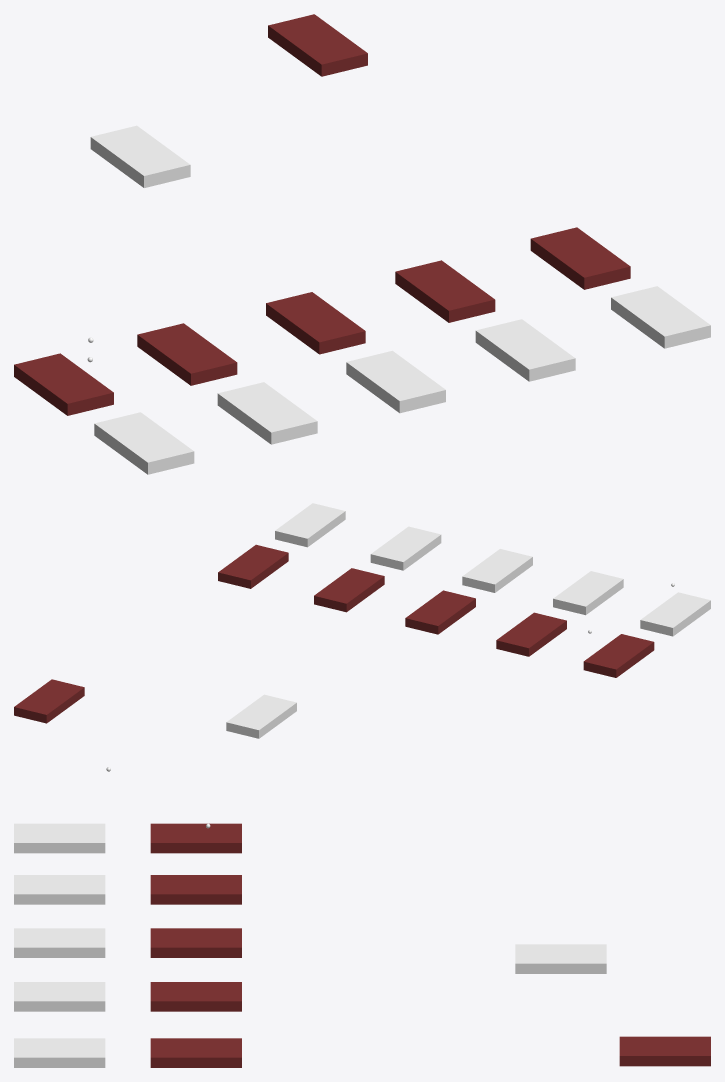
The model's file is constraints.glb.
3 views of the same model, one above another, from view 1: azimuth 30°, elevation 25°; view 2: azimuth 150°, elevation 25°; view 3: azimuth 270°, elevation 25° (orthographic). The views are drawn at different scales.
Parts seen in each view (by area): view 1: Cube (7), Distance Parent, Point Parent, Cube (1), Cube (5), PathParent, HingeParent, Cube (3), Pulley Parent, Cube (11), Slider Parent, Cube (8); view 2: Cube (5), Pulley Parent, Cube (7), Point Parent, Cube (1), PathParent, HingeParent, Cube (8), Cube (11), Distance Parent, Slider Parent, Cube (3); view 3: Cube (8), Cube (7), Pulley Parent, Distance Parent, Slider Parent, HingeParent, Point Parent, Cube (1), Cube (3), Cube (5), Cube (11), PathParent.
Part boxes in pixels (x1,y1,x2,y2): Cube (7): (94,412,194,474); Distance Parent: (137,323,237,385); Point Parent: (530,227,630,289); Cube (1): (217,382,317,444); Cube (5): (475,319,575,381); PathParent: (90,125,190,187); HingeParent: (395,260,495,322); Cube (3): (346,350,445,413); Pulley Parent: (14,353,113,415); Cube (11): (611,286,710,348); Slider Parent: (266,292,365,354); Cube (8): (268,14,367,76); Cube (5): (370,526,441,570); Pulley Parent: (583,634,654,677); Cube (7): (640,592,710,636); Point Parent: (218,544,288,588); Cube (1): (553,571,623,615); PathParent: (226,694,296,738); HingeParent: (314,568,384,612); Cube (8): (14,679,84,723); Cube (11): (275,503,345,547); Distance Parent: (496,612,566,656); Slider Parent: (405,590,475,634); Cube (3): (462,549,532,592); Cube (8): (619,1036,710,1066); Cube (7): (14,823,105,853); Pulley Parent: (150,823,241,853); Distance Parent: (150,875,241,904); Slider Parent: (150,928,241,957); HingeParent: (150,982,241,1011); Point Parent: (150,1038,241,1067); Cube (1): (14,875,105,904); Cube (3): (14,928,105,957); Cube (5): (14,982,105,1011); Cube (11): (14,1038,105,1067); PathParent: (515,944,606,973).
Size of the model in its own units: 12.51 by 1.59 by 15.29.
